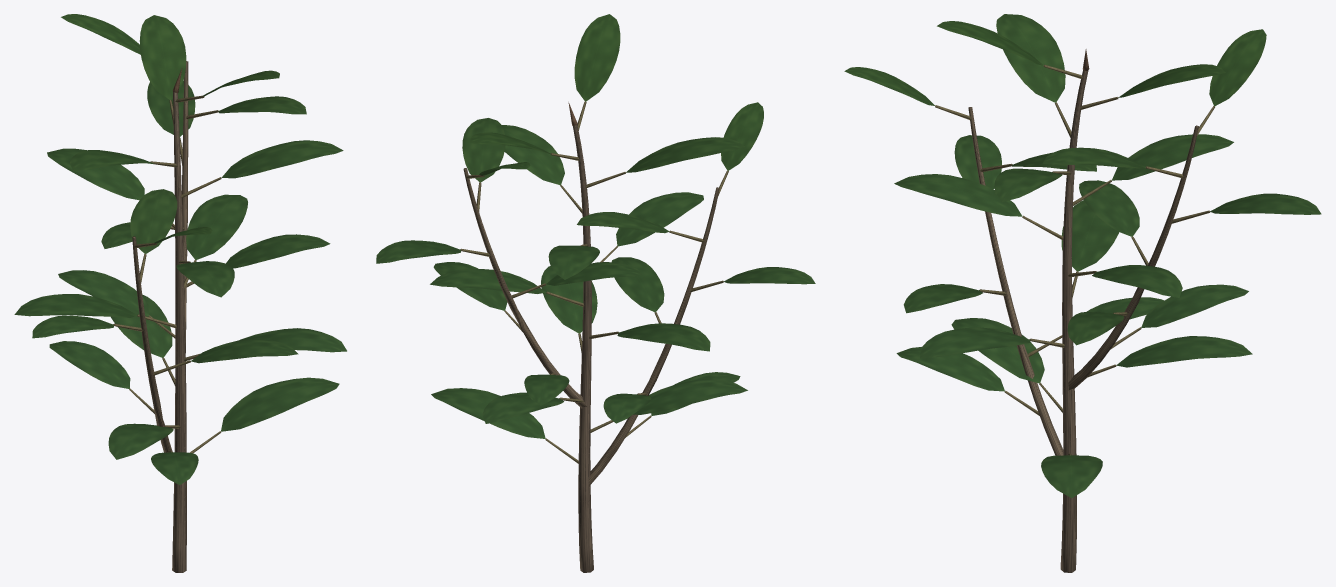
The model's file is ficus.glb.
3 views of the same model, side by side, from view 1: azimuth 30°, elevation 25°; view 2: azimuth 150°, elevation 25°; view 3: azimuth 270°, elevation 25° (orthographic). The views are drawn at different scales.
Parts seen in each view (by area): view 1: Foliage, Stems; view 2: Foliage, Stems; view 3: Foliage, Stems.
Part boxes in pixels (x1=…): Foliage: x1=14, y1=14, x2=346, y2=484; Stems: x1=113, y1=61, x2=221, y2=572; Foliage: x1=376, y1=14, x2=815, y2=438; Stems: x1=460, y1=101, x2=728, y2=572; Foliage: x1=844, y1=14, x2=1321, y2=498; Stems: x1=935, y1=49, x2=1214, y2=572.
Bounding box in the file's own units: 0.8792 × 1.25 × 0.9597.
2 materials, 2 textured.
